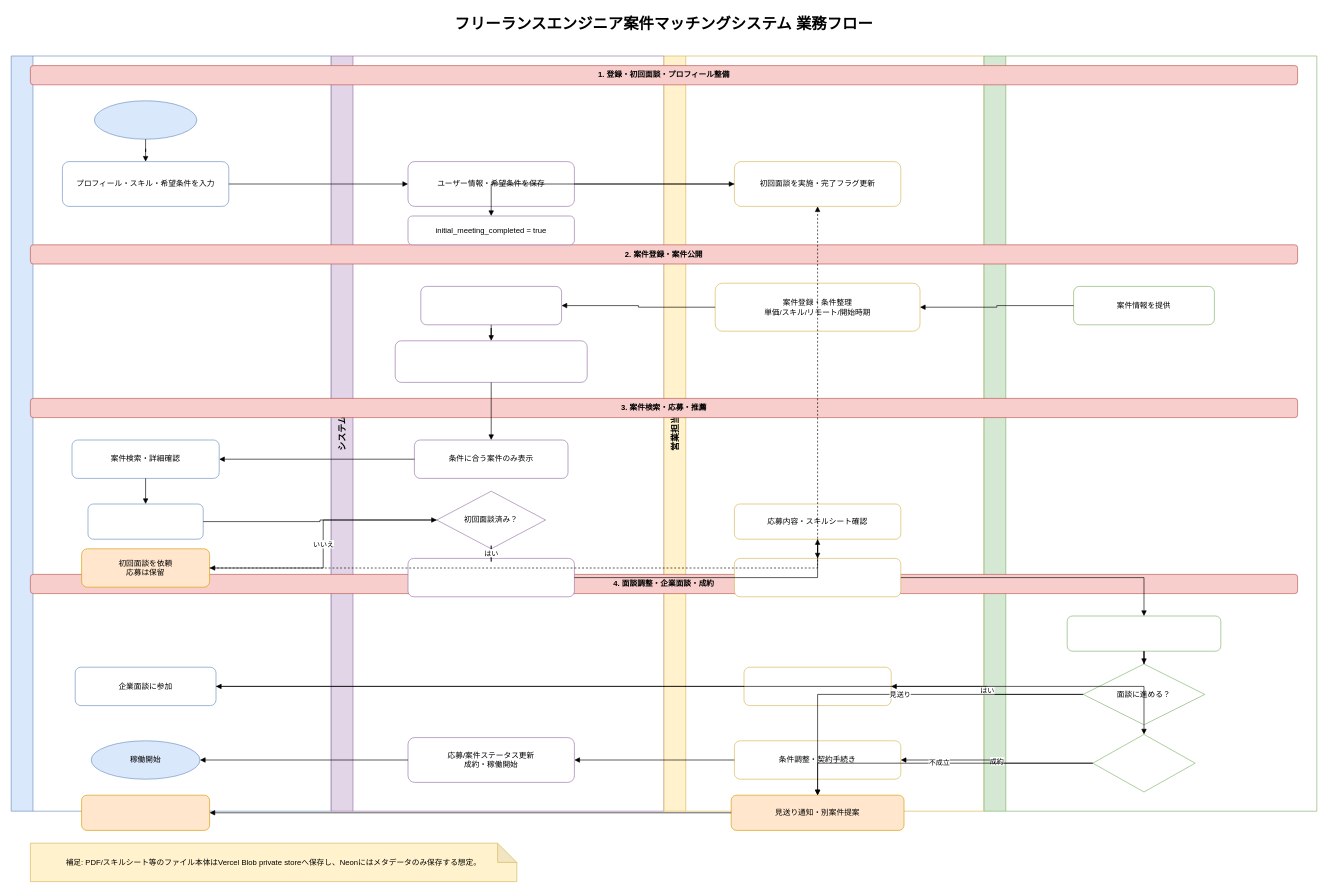
This 1328x893 diagram has some shape labels left out. The shapes that lost their labels are listed below. From the top down, each one's box as (x1, y1, x2, y2) in pixels, then its label:
(94, 100, 197, 139): 利用登録
(420, 286, 562, 325): 案件DBへ保存
(395, 340, 587, 382): 希望条件・スキルに合う案件を表示対象にする
(11, 55, 331, 811): フリーランスエンジニア
(983, 55, 1317, 811): 企業担当者
(87, 503, 203, 539): 応募する
(407, 558, 574, 597): 応募データ作成 ステータス: 営業確認中
(734, 558, 901, 597): 企業へ推薦・面談打診
(1067, 615, 1221, 651): 候補者情報を確認
(743, 667, 891, 706): 面談日程を調整
(1092, 734, 1195, 792): 成約判断
(81, 795, 210, 830): 結果確認 別案件を検討
